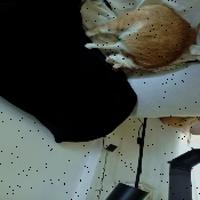asleep: (84, 4, 196, 72)
